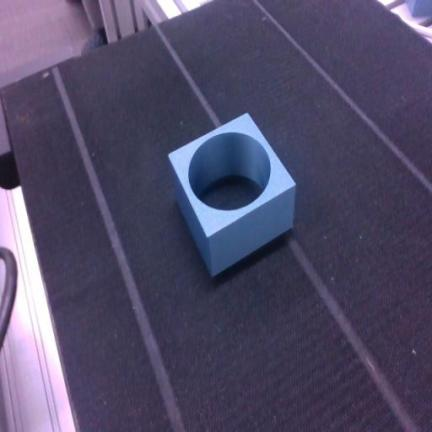hole: (169, 114, 295, 275)
